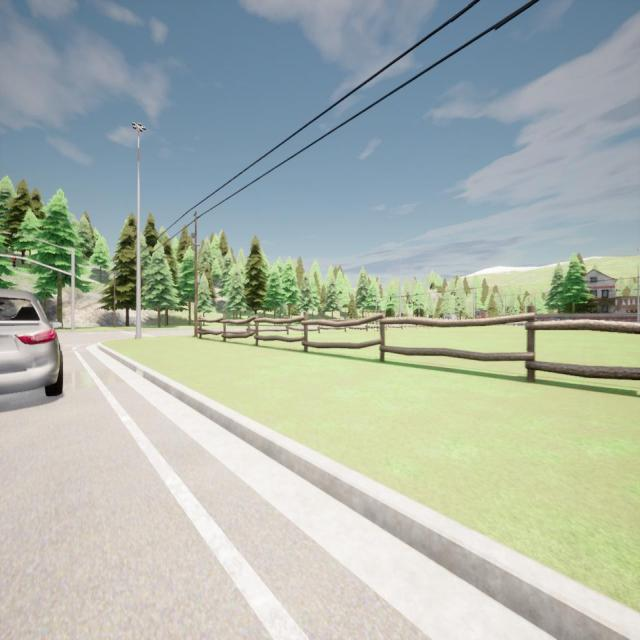Vehicle: (0, 289, 62, 395)
traffic_light: (12, 256, 16, 268)
